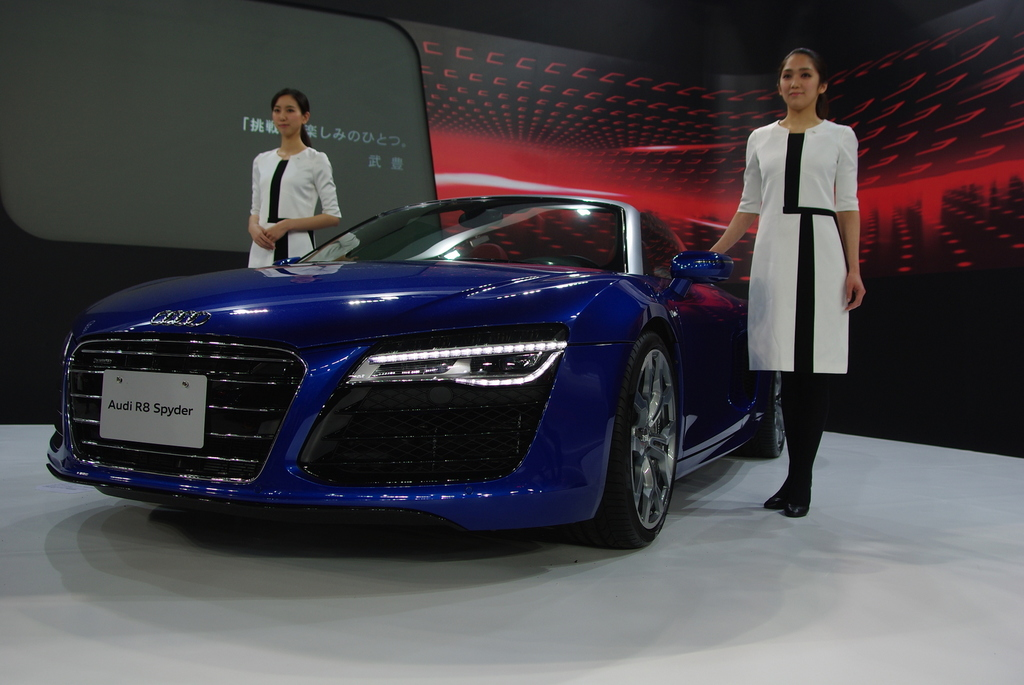Person: (706, 45, 867, 518), (249, 85, 344, 268)
